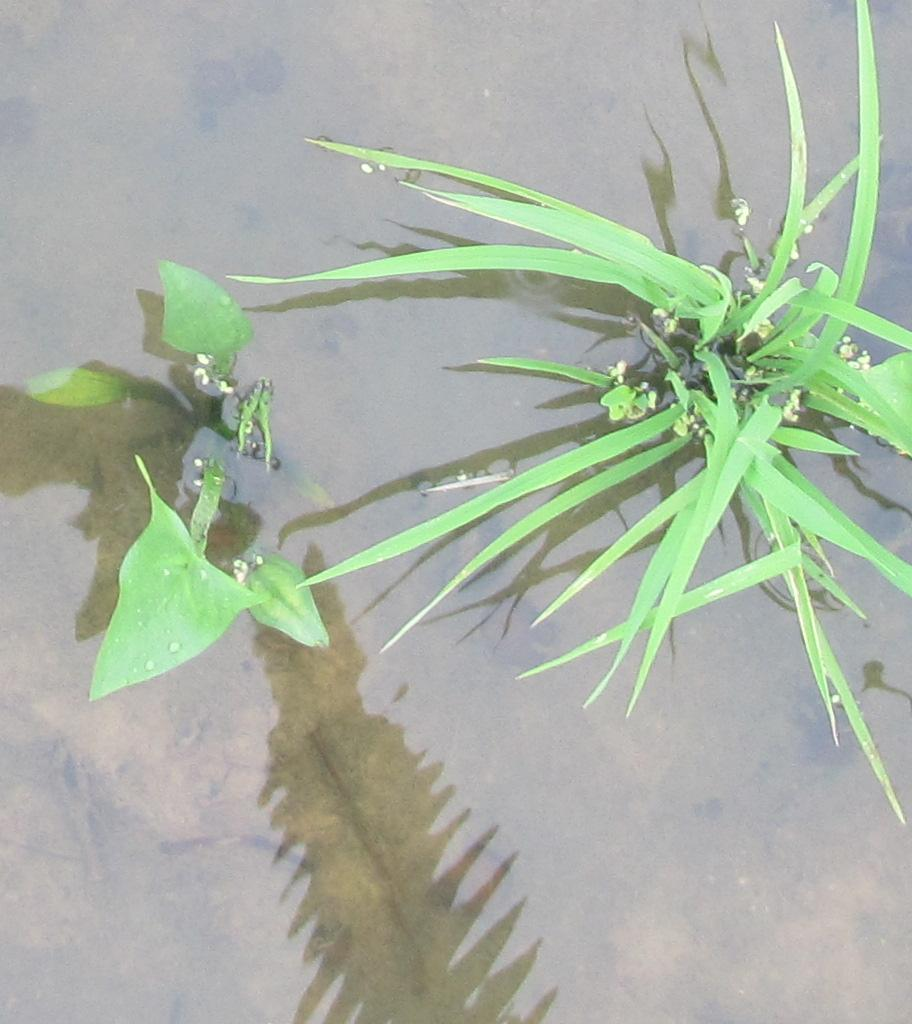Weed: (82, 258, 346, 708)
